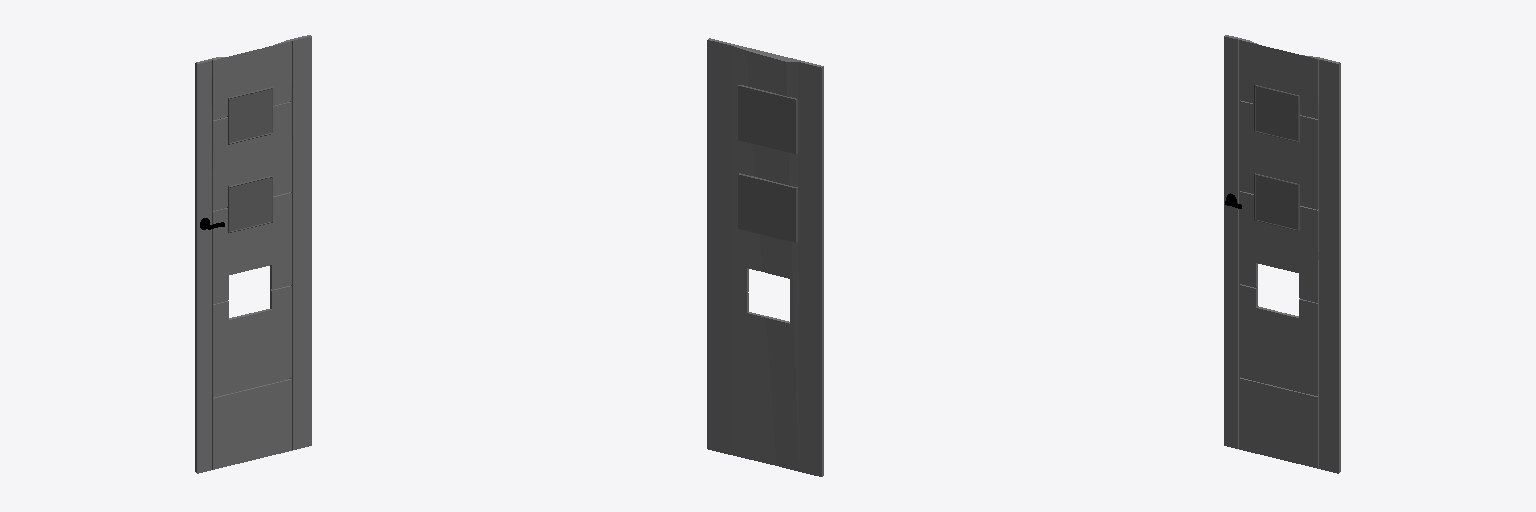
File: Puerta.obj
3 renders of one model, left to right at view 1: azimuth 30°, elevation 25°; view 2: azimuth 150°, elevation 25°; view 3: azimuth 330°, elevation 25°, orthographic.
Parts seen in each view (by area): view 1: pCube79, pCube80, pCube81; view 2: pCube79, pCube80, pCube81; view 3: pCube79, pCube80, pCube81.
Part boxes in pixels (bbox=[...]): pCube79: bbox=[195, 35, 311, 473]; pCube80: bbox=[227, 175, 272, 232]; pCube81: bbox=[220, 87, 272, 144]; pCube79: bbox=[707, 38, 823, 476]; pCube80: bbox=[738, 173, 797, 242]; pCube81: bbox=[738, 85, 797, 153]; pCube79: bbox=[1224, 35, 1340, 473]; pCube80: bbox=[1254, 173, 1300, 230]; pCube81: bbox=[1254, 85, 1300, 142].
Size of the model in its own units: 1.05 by 3.6 by 0.1527.